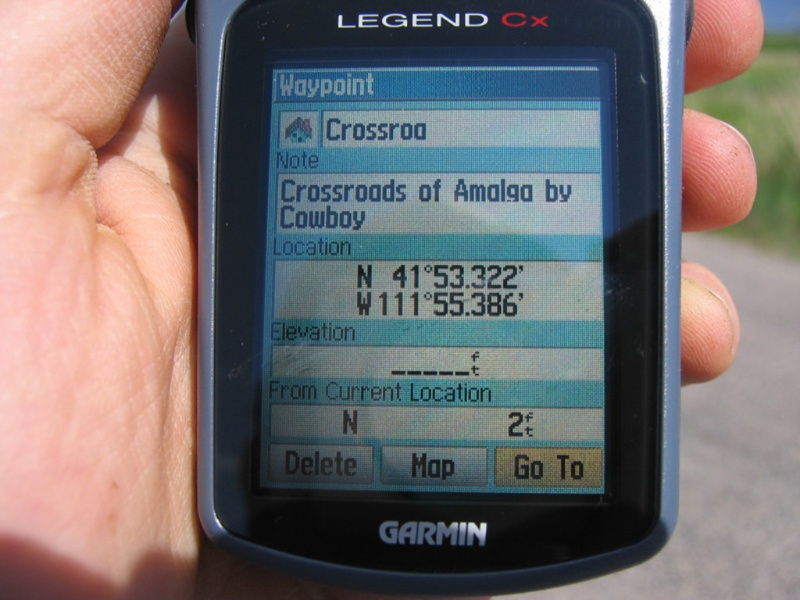cellphone: (187, 5, 694, 591)
